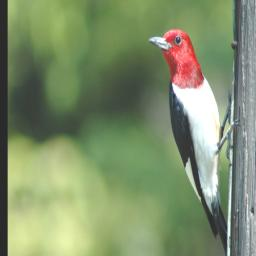Woodpecker: (146, 28, 244, 256)
